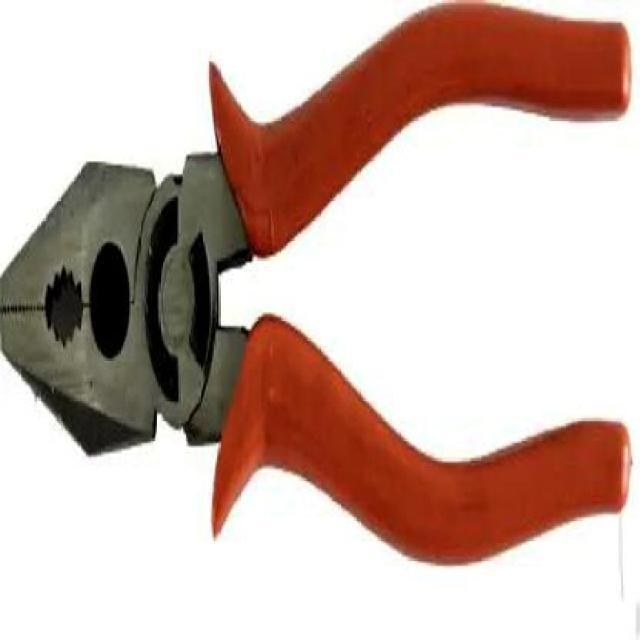pliers: (6, 8, 629, 567)
